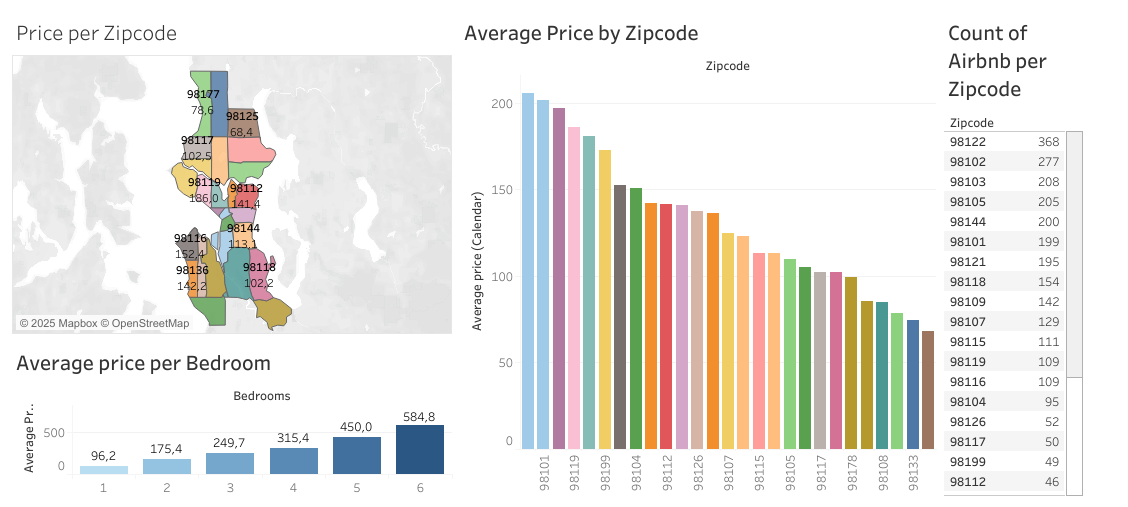

What the dashboard file says about the page in this screenshot:
{"tool":"tableau","page":{"name":"Dashboard 2","canvas":[1000,1000],"units":"permille","ordinal":1},"visuals":[{"type":"worksheet","title":"Map of Average Price per Zipcode","mark":"Multipolygon","box":[7.1,15,396.4,650.4]},{"type":"worksheet","title":"Average Price per Zipcode","mark":"Automatic","rows":["price (Calendar)"],"cols":["zipcode"],"box":[403.5,15,429.5,970.1]},{"type":"worksheet","title":"Sheet 7","mark":"Automatic","rows":["zipcode"],"box":[833,15,159.9,970.1]},{"type":"worksheet","title":"Average price per Bedroom","mark":"Bar","rows":["price"],"cols":["bedrooms"],"box":[7.1,665.4,396.4,319.7]}]}

Visuals, with their boxes on the dashboard's canvas, which has no fixed pixel size, in thousandths of its width and height (x1, y1, x2, y2). These are canvas units, not pixel positions in the 1128x507 screenshot, which may show the page scaled, cropped or inside an application window:
"Map of Average Price per Zipcode" worksheet (Multipolygon marks): bbox=(7, 15, 404, 665)
"Average Price per Zipcode" worksheet: bbox=(404, 15, 833, 985)
"Sheet 7" worksheet: bbox=(833, 15, 993, 985)
"Average price per Bedroom" worksheet (Bar marks): bbox=(7, 665, 404, 985)
